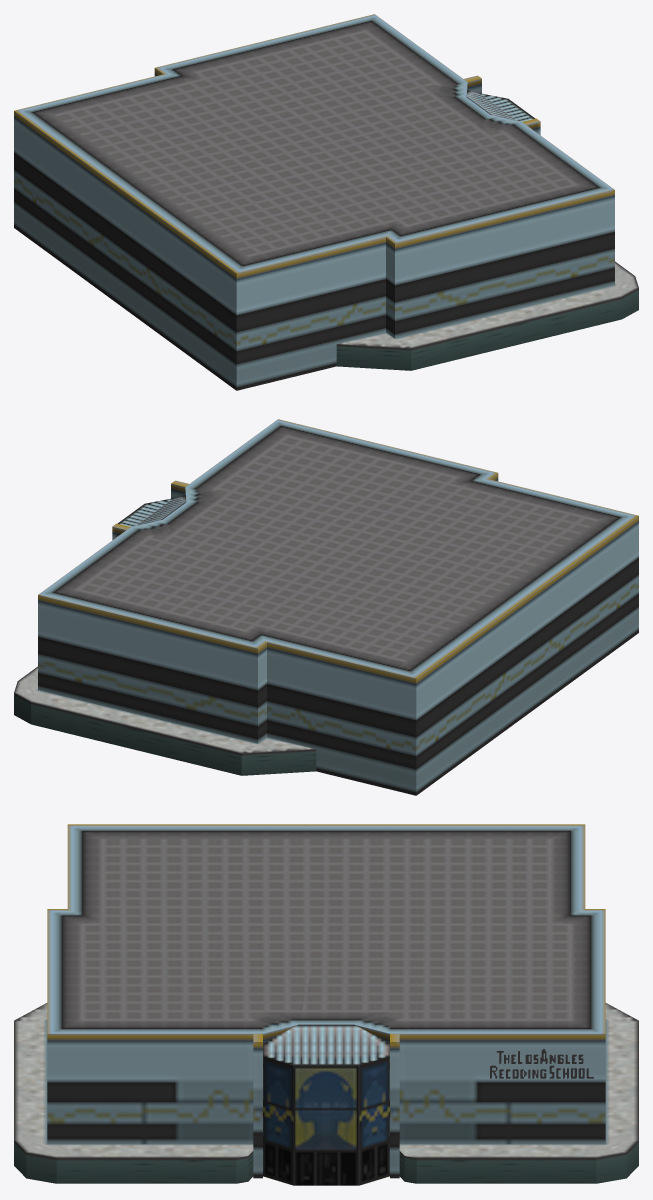
File: RecordingSchool.fbx
3 views of the same model, one above another, from view 1: azimuth 30°, elevation 25°; view 2: azimuth 150°, elevation 25°; view 3: azimuth 270°, elevation 25° (orthographic). The views are drawn at different scales.
Parts seen in each view (by area): view 1: RecordingSchool:RecordingSchool:RecordingSchool; view 2: RecordingSchool:RecordingSchool:RecordingSchool; view 3: RecordingSchool:RecordingSchool:RecordingSchool.
Boxes of the visible parts, x1=… form: RecordingSchool:RecordingSchool:RecordingSchool: x1=14, y1=14, x2=638, y2=390; RecordingSchool:RecordingSchool:RecordingSchool: x1=14, y1=419, x2=638, y2=795; RecordingSchool:RecordingSchool:RecordingSchool: x1=14, y1=824, x2=638, y2=1185.
Bounding box in the file's own units: 10.18 × 2.87 × 11.94.
